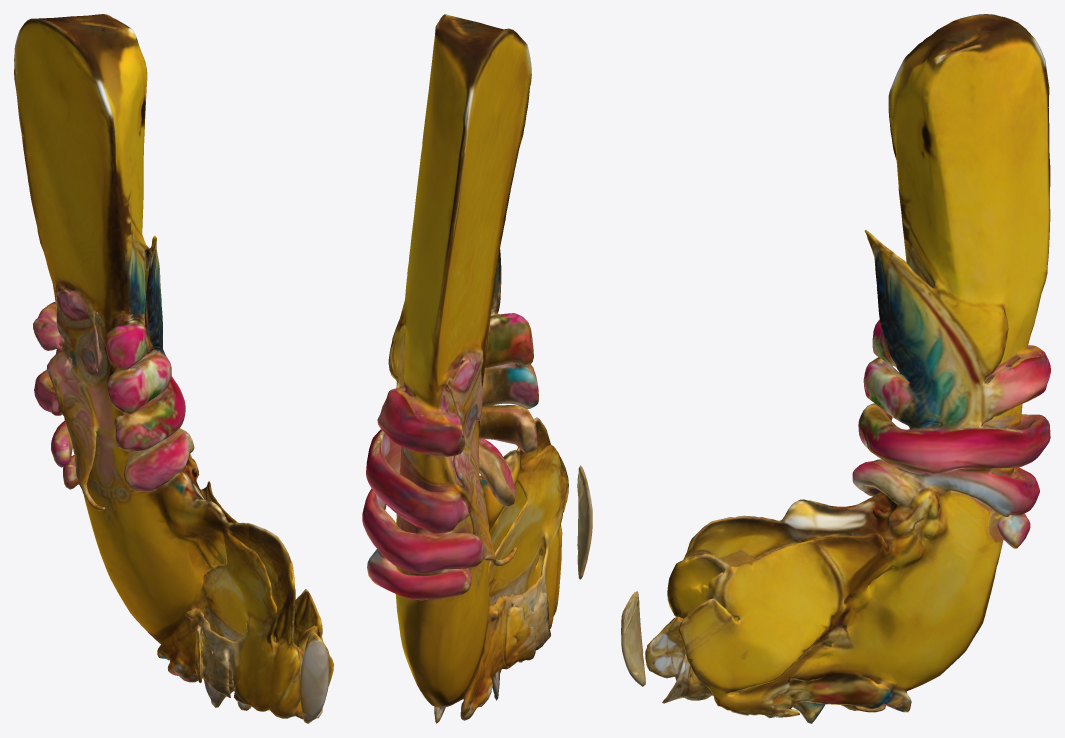
The model's file is Wayang_kulit_puppet_h_1019104325.obj.
3 views of the same model, side by side, from view 1: azimuth 30°, elevation 25°; view 2: azimuth 150°, elevation 25°; view 3: azimuth 270°, elevation 25° (orthographic). The views are drawn at different scales.
Visible parts, largest first — view 1: Mesh_0; view 2: Mesh_0; view 3: Mesh_0.
Part boxes in pixels (x1,y1,x2,y2): Mesh_0: (14, 14, 333, 723); Mesh_0: (362, 14, 592, 723); Mesh_0: (621, 14, 1050, 723).
Bounding box in the file's own units: 0.4327 × 2.01 × 1.17.
1 material, 1 textured.
